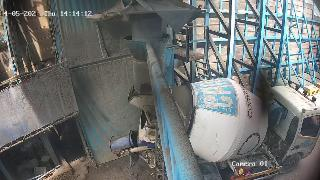cement_mixer_truck: (128, 78, 320, 180)
swing_chute: (124, 35, 170, 93)
